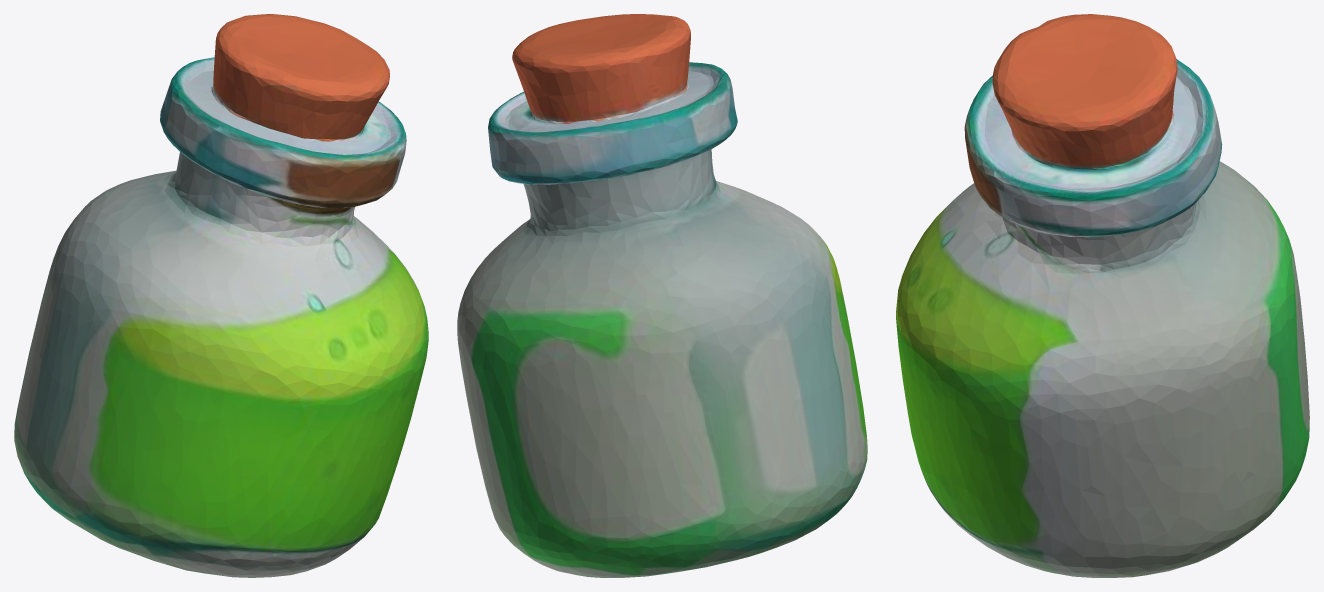
Rendered from antidote.glb.
3 views of the same model, side by side, from view 1: azimuth 30°, elevation 25°; view 2: azimuth 150°, elevation 25°; view 3: azimuth 270°, elevation 25° (orthographic). The views are drawn at different scales.
Visible parts, largest first — view 1: tmp3091li7j.ply; view 2: tmp3091li7j.ply; view 3: tmp3091li7j.ply.
Part boxes in pixels (x1,y1,x2,y2): tmp3091li7j.ply: (14,14,428,577); tmp3091li7j.ply: (457,14,867,577); tmp3091li7j.ply: (896,14,1309,577).
Bounding box in the file's own units: 1.49 × 1.99 × 1.44.
1 material, 1 textured.
